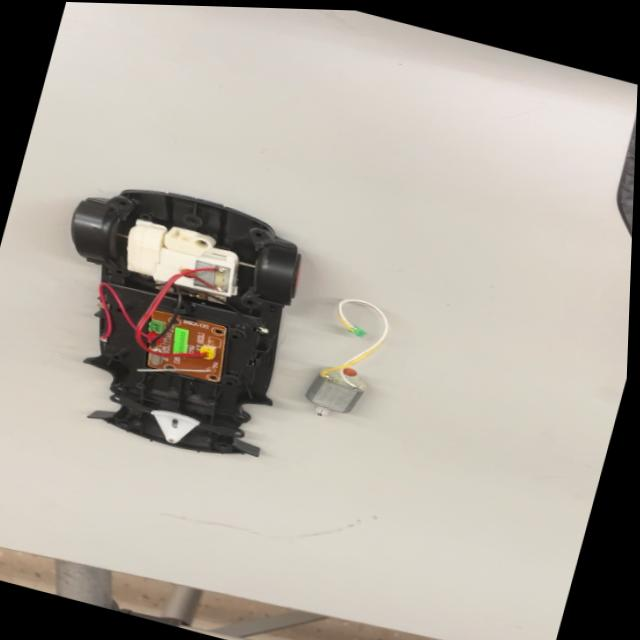Chassis: (15, 165, 326, 473)
motor: (295, 293, 400, 433)
